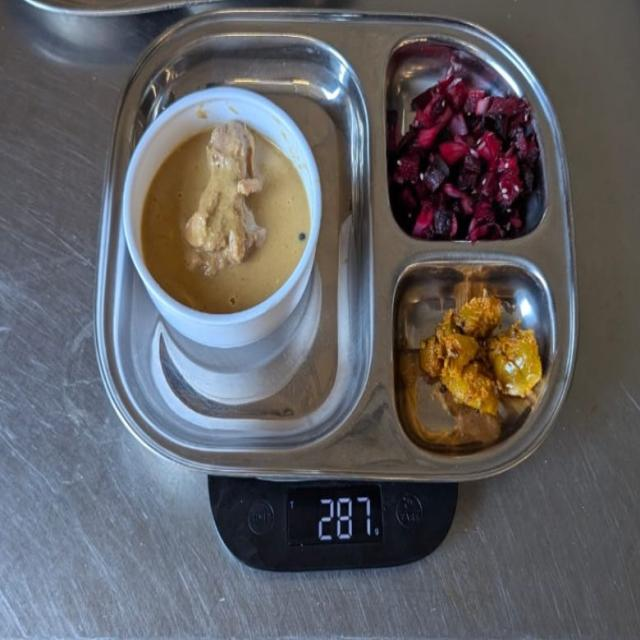Achar: (415, 285, 547, 420)
Chicken Curry: (140, 118, 310, 313)
Salad: (397, 66, 541, 244)
